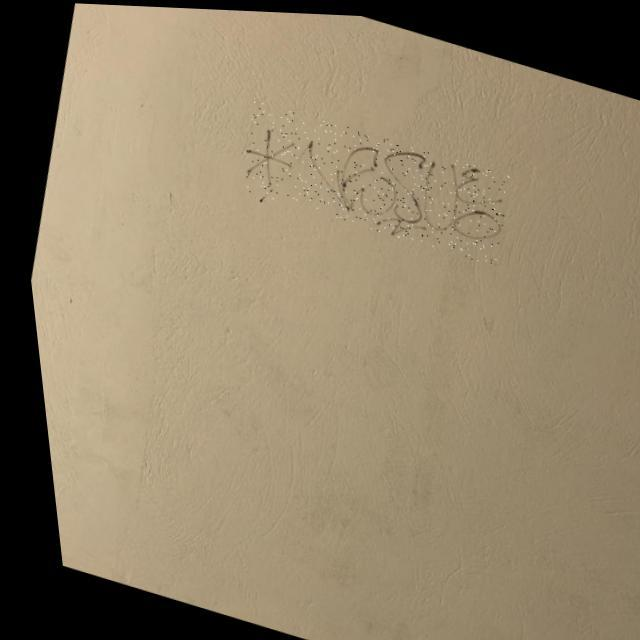-: (228, 95, 514, 263)
